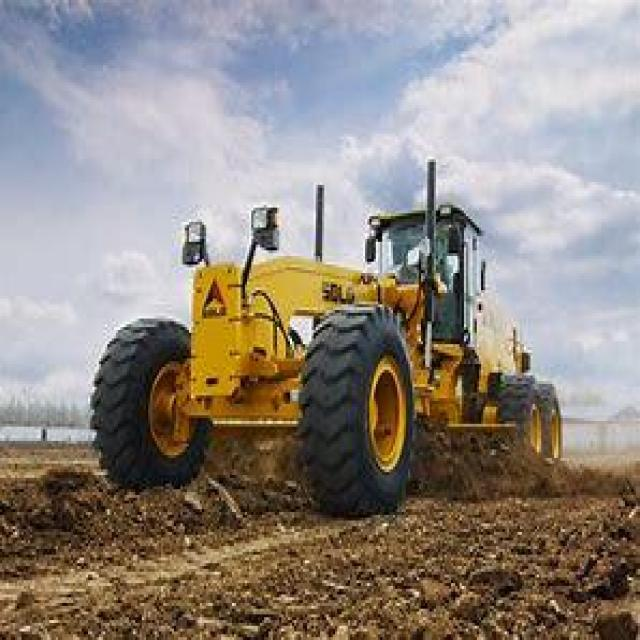Grader: (69, 145, 582, 535)
